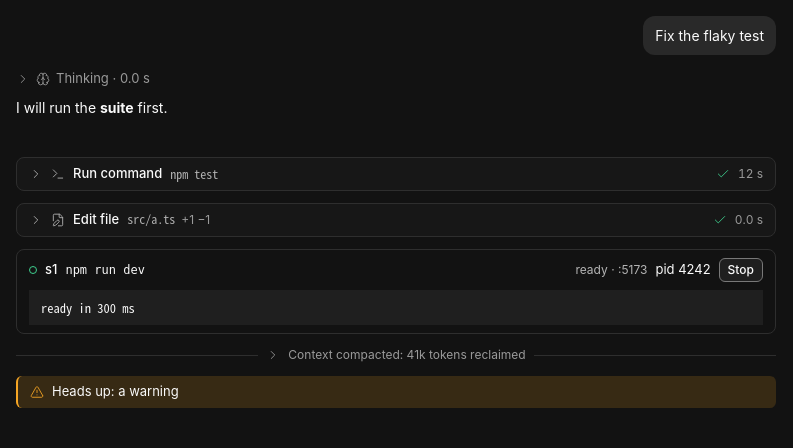
it: Transcript entry kinds › keeps thinking collapsed by default and reveals it through the shared toggle
The image size is (793, 448).
Expected: the text "secret reasoning text" is not shown
Click the button "Thinking · 0.0 s".
click(83, 79)  # box [16,67,150,91]
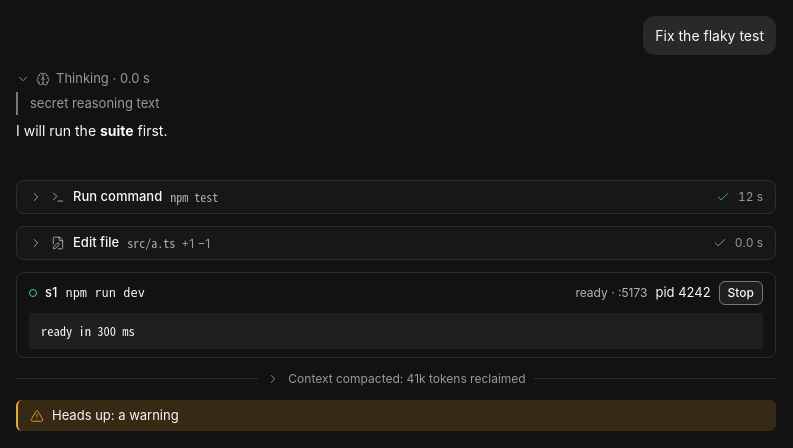
Expected: the text "secret reasoning text" is shown, [16,92,776,115]
